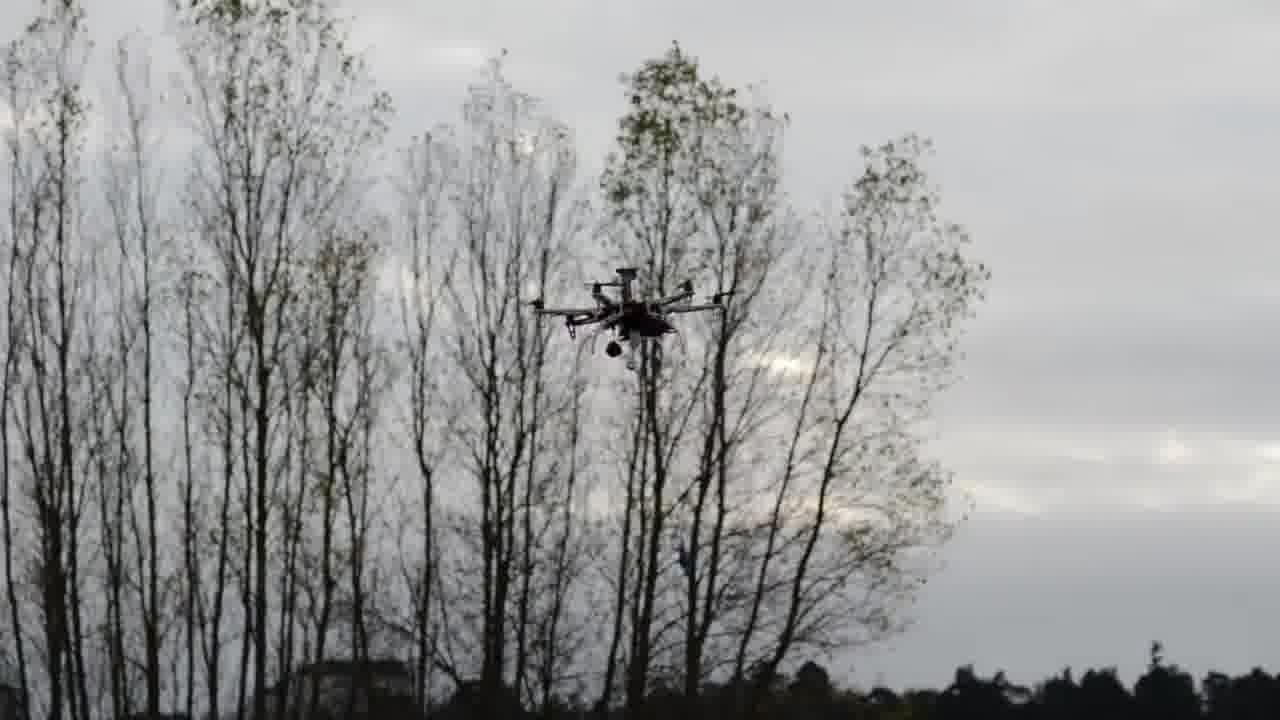drone: (515, 266, 741, 382)
